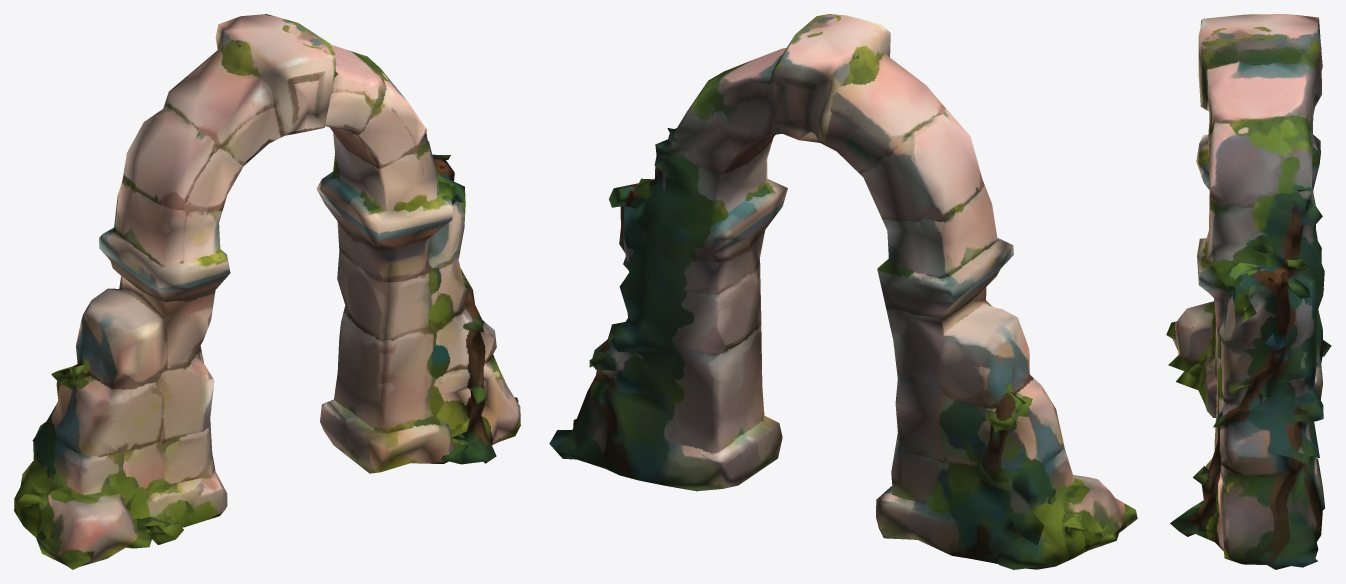
File: ruin_arch.glb
3 views of the same model, side by side, from view 1: azimuth 30°, elevation 25°; view 2: azimuth 150°, elevation 25°; view 3: azimuth 270°, elevation 25° (orthographic). The views are drawn at different scales.
Parts seen in each view (by area): view 1: geometry_0; view 2: geometry_0; view 3: geometry_0.
Boxes of the visible parts, left/top/right/bottom form: geometry_0: left=14, top=14, right=520, bottom=569; geometry_0: left=549, top=14, right=1137, bottom=569; geometry_0: left=1166, top=14, right=1331, bottom=569.
Size of the model in its own units: 4.76 by 4 by 1.38.
1 material, 1 textured.
